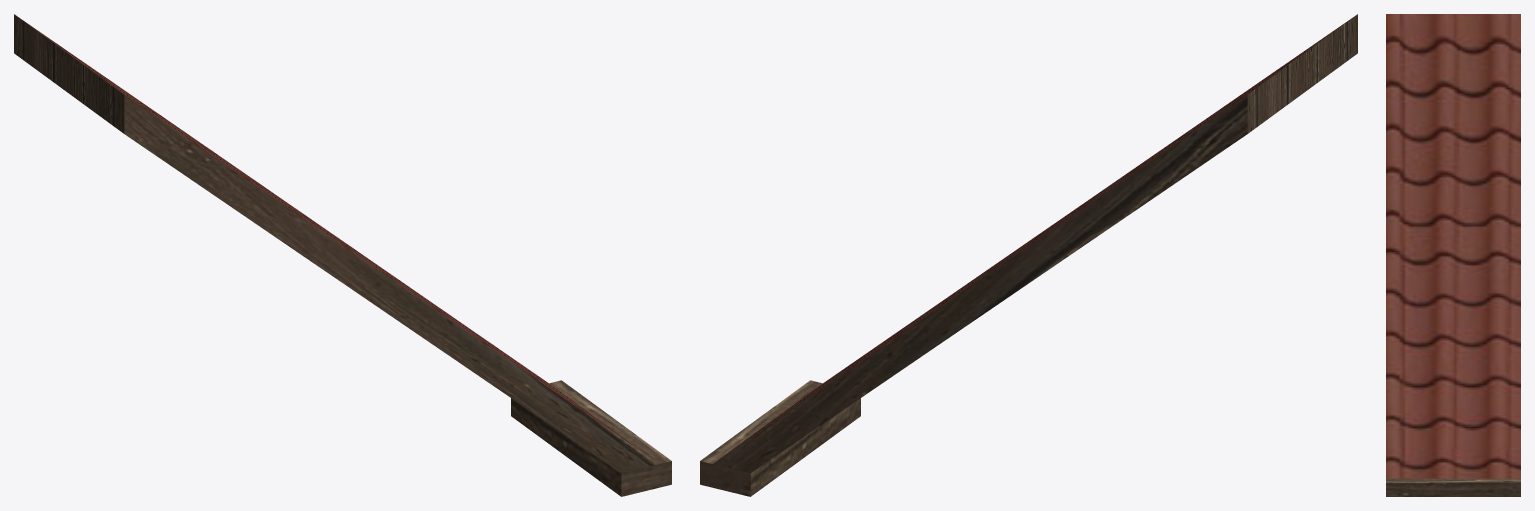
The model's file is ARC1010396.fbx.
3 renders of one model, left to right at view 1: azimuth 30°, elevation 25°; view 2: azimuth 150°, elevation 25°; view 3: azimuth 270°, elevation 25°, orthographic. The views are drawn at different scales.
Visible parts, largest first — view 1: smARC1010396; view 2: smARC1010396; view 3: smARC1010396.
Boxes of the visible parts, x1,y1,x2,y2 form: smARC1010396: [14, 14, 671, 496]; smARC1010396: [700, 14, 1357, 496]; smARC1010396: [1386, 14, 1520, 496].
Bounding box in the file's own units: 320 × 293 × 112.
1 material, 1 textured.
